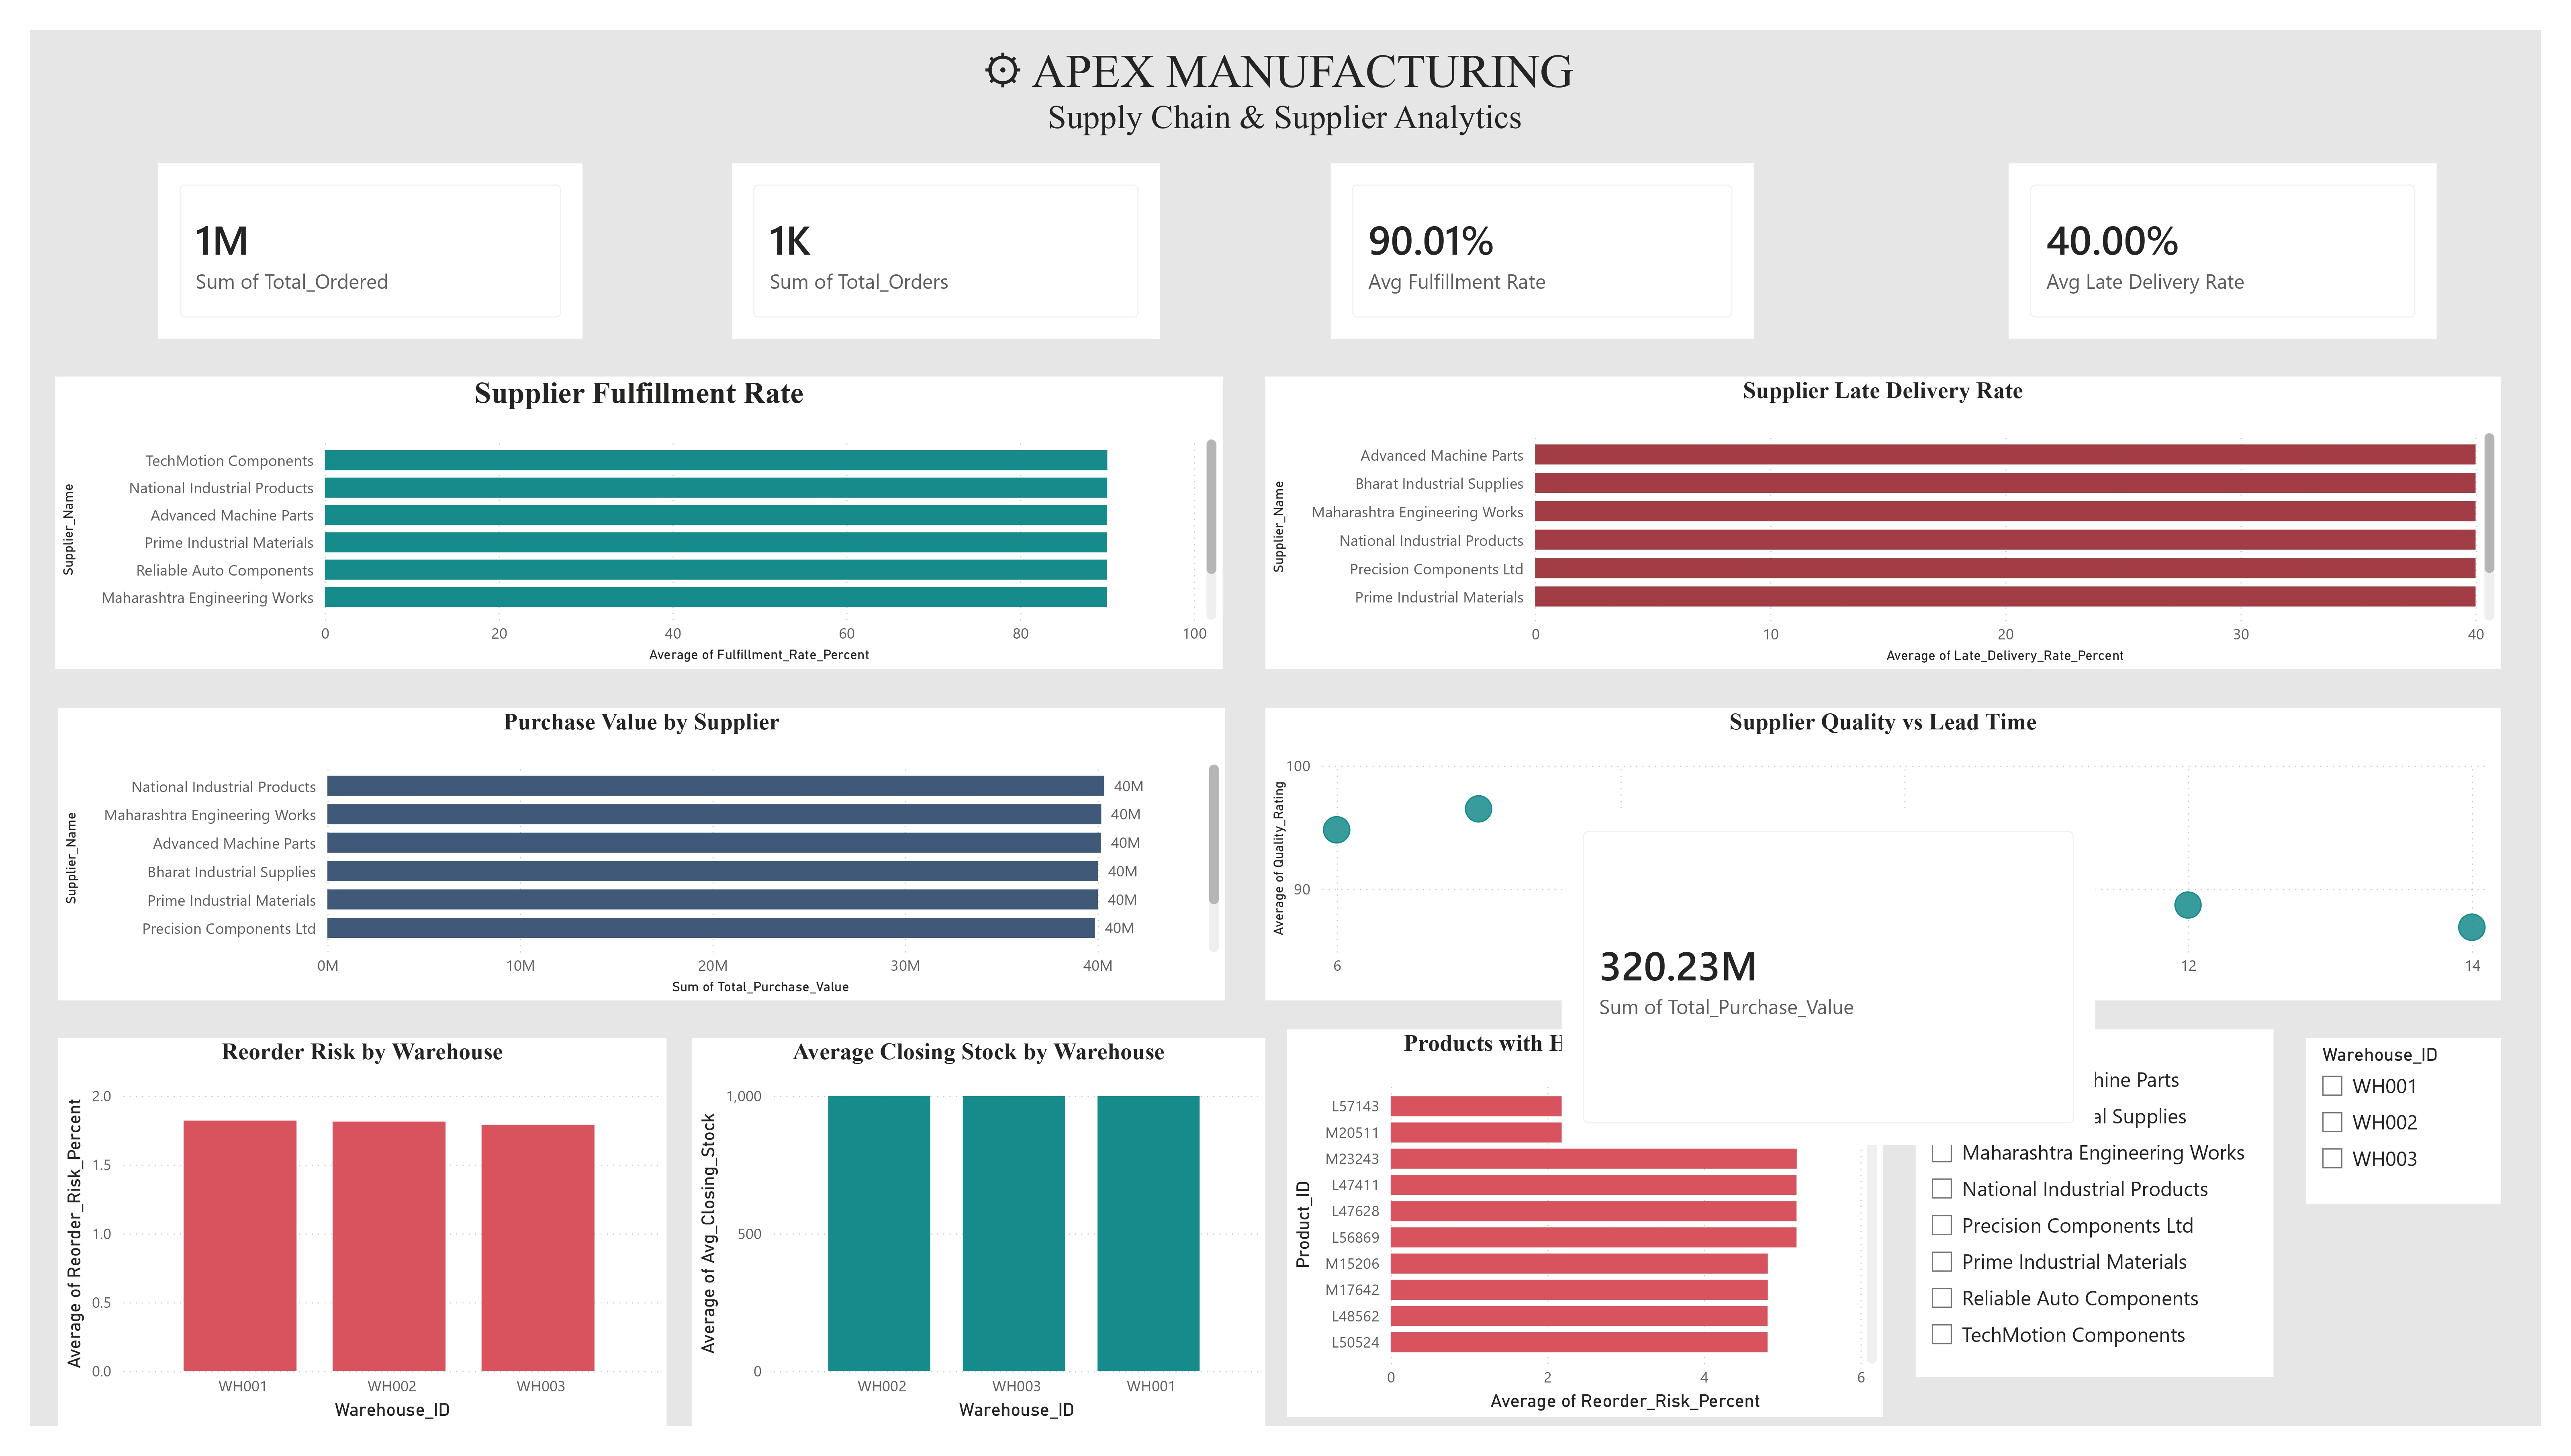

The dashboard page shown, as its layout file describes it:
{"tool":"powerbi","page":{"name":"Supply Chain & Supplier Analytics","canvas":[2000,1112],"ordinal":1},"visuals":[{"type":"cardVisual","fields":{"Data":["Sum(analytics vw_supplier_performance.Total_Orders)"]},"box":[559,106.2,341,139.7],"z":0},{"type":"cardVisual","fields":{"Data":["Sum(analytics vw_supplier_performance.Total_Ordered)"]},"box":[102.5,106.2,337.3,139.7],"z":1000},{"type":"cardVisual","fields":{"Data":["warehouse fact_machine_operations.Avg Fulfillment Rate"]},"box":[1036,106.2,337.3,139.7],"z":2000},{"type":"cardVisual","fields":{"Data":["warehouse fact_machine_operations.Avg Late Delivery Rate"]},"box":[1576.3,106.2,341,139.7],"z":3000},{"type":"clusteredBarChart","title":"Supplier Fulfillment Rate","fields":{"Category":["analytics vw_supplier_performance.Supplier_Name"],"Y":["Avg(analytics vw_supplier_performance.Fulfillment_Rate_Percent)"]},"box":[20.5,275.8,929.8,232.9],"z":4000},{"type":"clusteredBarChart","title":"Supplier Late Delivery Rate","fields":{"Category":["analytics vw_supplier_performance.Supplier_Name"],"Y":["Avg(analytics vw_supplier_performance.Late_Delivery_Rate_Percent)"]},"box":[983.8,275.8,983.8,232.9],"z":5000},{"type":"clusteredBarChart","title":"Purchase Value by Supplier","fields":{"Category":["analytics vw_supplier_performance.Supplier_Name"],"Y":["Sum(analytics vw_supplier_performance.Total_Purchase_Value)"]},"box":[22.4,540.4,929.8,232.9],"z":6000},{"type":"clusteredColumnChart","title":"Reorder Risk by Warehouse","fields":{"Category":["analytics vw_inventory_risk.Warehouse_ID"],"Y":["Avg(analytics vw_inventory_risk.Reorder_Risk_Percent)"]},"box":[22.4,803.1,484.5,309.3],"z":7000},{"type":"clusteredColumnChart","title":"Average Closing Stock by Warehouse","fields":{"Category":["analytics vw_inventory_risk.Warehouse_ID"],"Y":["Avg(analytics vw_inventory_risk.Avg_Closing_Stock)"]},"box":[527.3,803.1,456.5,309.3],"z":8000},{"type":"clusteredBarChart","title":"Products with Highest Reorder Risk","fields":{"Category":["analytics vw_inventory_risk.Product_ID"],"Y":["Avg(analytics vw_inventory_risk.Reorder_Risk_Percent)"]},"box":[1000.6,795.6,475.1,309.3],"z":9000},{"type":"scatterChart","title":"Supplier Quality vs Lead Time","fields":{"X":["Avg(analytics vw_supplier_performance.Lead_Time_Days)"],"Category":["analytics vw_supplier_performance.Supplier_Name"],"Y":["Avg(analytics vw_supplier_performance.Quality_Rating)"],"Size":["Sum(analytics vw_supplier_performance.Total_Purchase_Value)"]},"box":[983.8,540.4,983.8,232.9],"z":10000},{"type":"textbox","box":[0,0,1999.3,93.2],"z":11000},{"type":"slicer","fields":{"Values":["analytics vw_supplier_performance.Supplier_Name"]},"box":[1501.8,795.6,285.1,277.6],"z":12000},{"type":"slicer","fields":{"Values":["analytics vw_inventory_risk.Warehouse_ID"]},"box":[1813,803.1,154.7,132.3],"z":13000},{"type":"cardVisual","fields":{"Data":["Sum(analytics vw_supplier_performance.Total_Purchase_Value)"]},"box":[1219.7,621.5,425.3,266.1],"z":13001}]}

Visuals, with their boxes on the page's 2000x1112 design canvas (x1, y1, x2, y2). These are canvas units, not pixel positions in the 2571x1456 screenshot, which may show the page scaled, cropped or inside an application window:
cardVisual - Sum(analytics vw_supplier_performance.Total_Orders): <region>559, 106, 900, 246</region>
cardVisual - Sum(analytics vw_supplier_performance.Total_Ordered): <region>102, 106, 440, 246</region>
cardVisual - warehouse fact_machine_operations.Avg Fulfillment Rate: <region>1036, 106, 1373, 246</region>
cardVisual - warehouse fact_machine_operations.Avg Late Delivery Rate: <region>1576, 106, 1917, 246</region>
"Supplier Fulfillment Rate" clusteredBarChart: <region>20, 276, 950, 509</region>
"Supplier Late Delivery Rate" clusteredBarChart: <region>984, 276, 1968, 509</region>
"Purchase Value by Supplier" clusteredBarChart: <region>22, 540, 952, 773</region>
"Reorder Risk by Warehouse" clusteredColumnChart: <region>22, 803, 507, 1112</region>
"Average Closing Stock by Warehouse" clusteredColumnChart: <region>527, 803, 984, 1112</region>
"Products with Highest Reorder Risk" clusteredBarChart: <region>1001, 796, 1476, 1105</region>
"Supplier Quality vs Lead Time" scatterChart: <region>984, 540, 1968, 773</region>
textbox: <region>0, 0, 1999, 93</region>
slicer - analytics vw_supplier_performance.Supplier_Name: <region>1502, 796, 1787, 1073</region>
slicer - analytics vw_inventory_risk.Warehouse_ID: <region>1813, 803, 1968, 935</region>
cardVisual - Sum(analytics vw_supplier_performance.Total_Purchase_Value): <region>1220, 622, 1645, 888</region>
